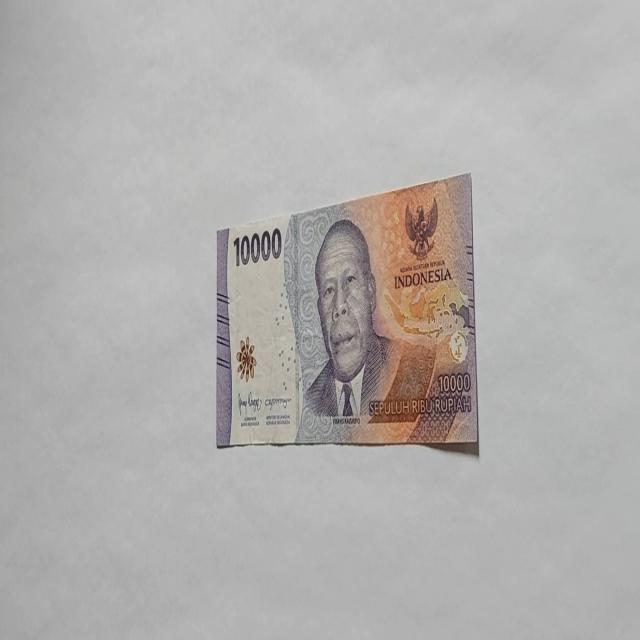sepuluh ribu rupiah: (215, 170, 479, 452), (293, 216, 436, 444)
